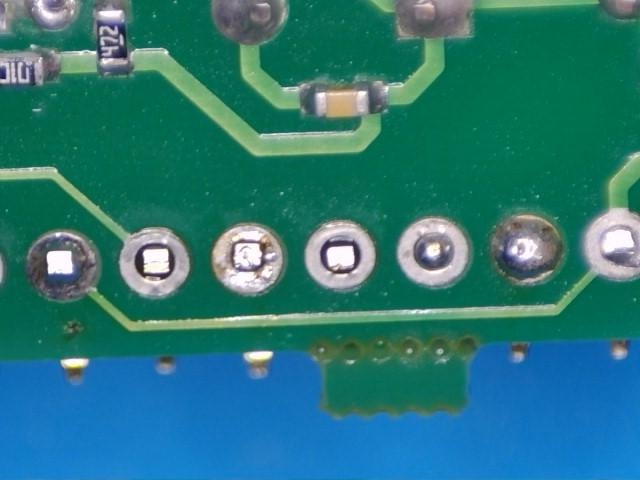pcb_defect: (399, 219, 469, 286), (493, 216, 563, 282), (588, 212, 640, 279)
